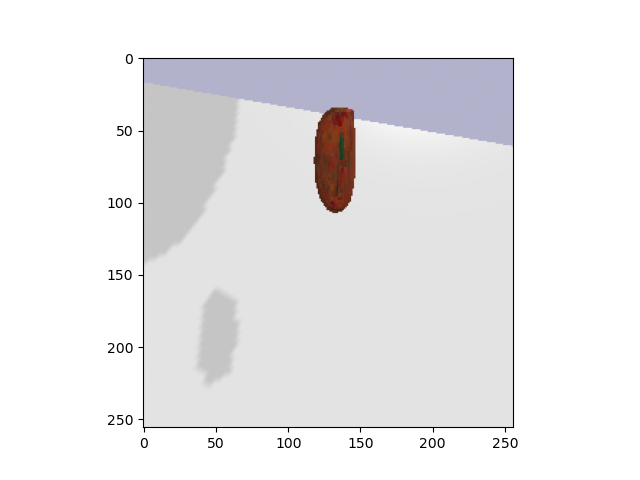v249b387_106: (310, 99, 361, 218)
